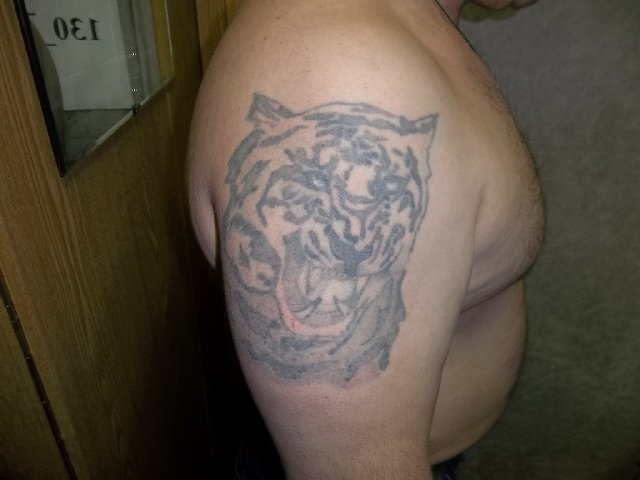tatu5_tigr: (185, 83, 454, 395)
